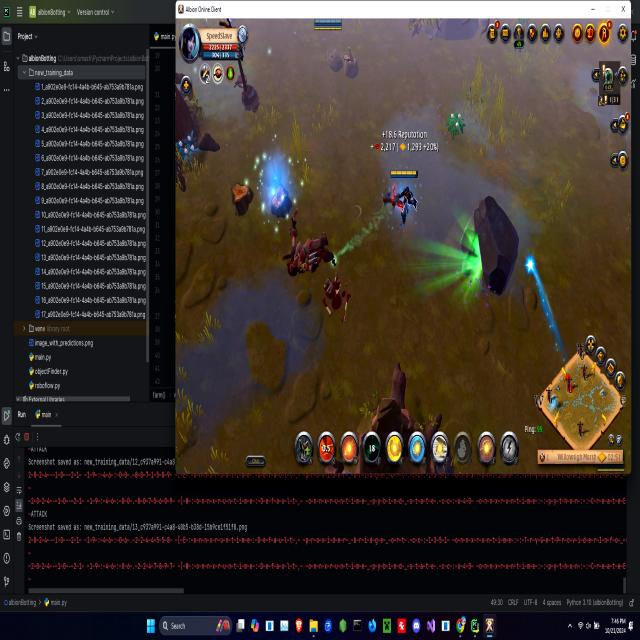hide: (179, 130, 200, 171), (445, 110, 466, 144)
red: (383, 164, 422, 224), (312, 15, 346, 34)
